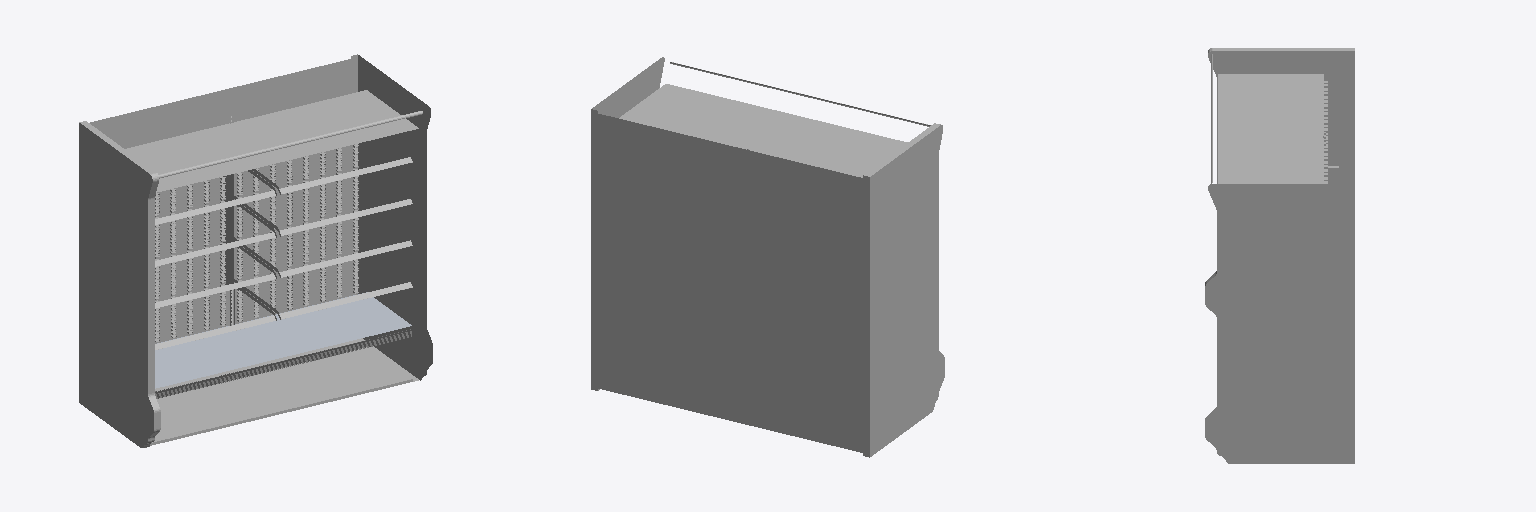
File: milk_multideck_cabinet_with_curtain.obj
The picture shows the model from 3 angles: view 1: azimuth 30°, elevation 25°; view 2: azimuth 150°, elevation 25°; view 3: azimuth 270°, elevation 25°; orthographic projection.
Visible parts, largest first — view 1: mesh 1 milk_multideck_cabinet_with_, mesh 2 Extrude20 face; view 2: mesh 1 milk_multideck_cabinet_with_; view 3: mesh 1 milk_multideck_cabinet_with_.
Boxes of the visible parts, <box> form: mesh 1 milk_multideck_cabinet_with_: <box>79,54,432,447</box>; mesh 2 Extrude20 face: <box>155,292,411,388</box>; mesh 1 milk_multideck_cabinet_with_: <box>591,57,944,457</box>; mesh 1 milk_multideck_cabinet_with_: <box>1205,48,1354,463</box>.
Bounding box in the file's own units: 2.1 × 2.02 × 0.975.